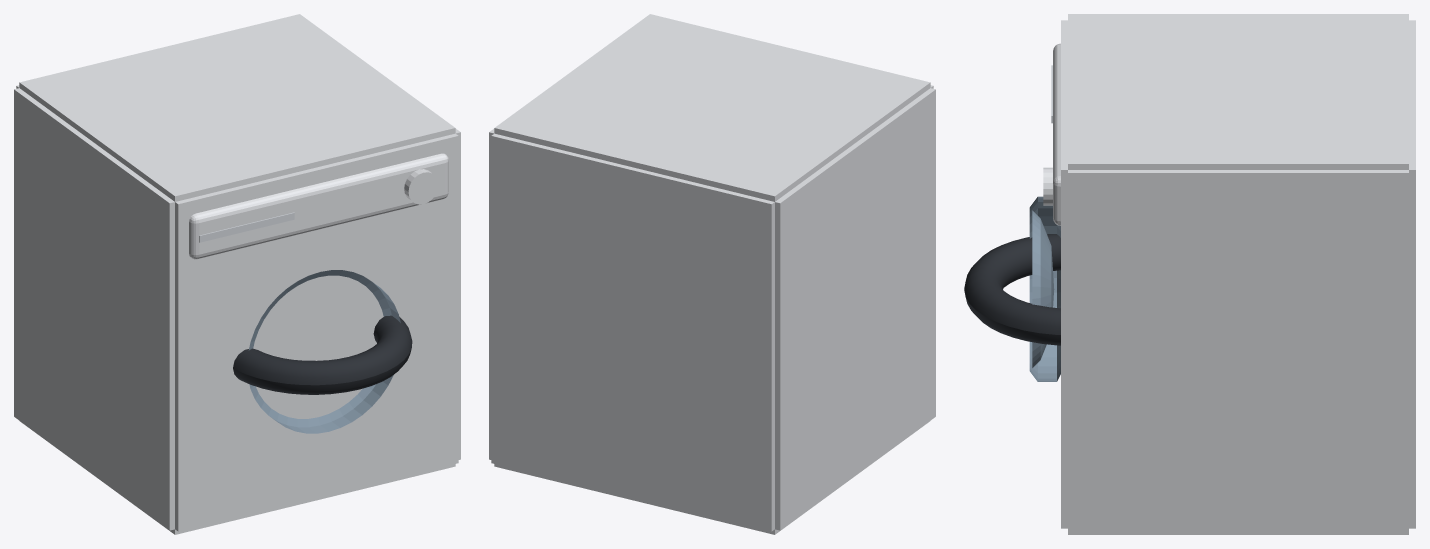
The model's file is washing_machine.glb.
3 views of the same model, side by side, from view 1: azimuth 30°, elevation 25°; view 2: azimuth 150°, elevation 25°; view 3: azimuth 270°, elevation 25° (orthographic). The views are drawn at different scales.
Visible parts, largest first — view 1: cabinet, front_panel, door_seal, door, detergent_drawer; view 2: cabinet; view 3: cabinet, door_seal, front_panel, door.
Boxes of the visible parts, x1=… form: cabinet: x1=14, y1=14, x2=460, y2=534; front_panel: x1=175, y1=133, x2=458, y2=531; door_seal: x1=233, y1=315, x2=412, y2=394; door: x1=248, y1=270, x2=400, y2=433; detergent_drawer: x1=199, y1=212, x2=294, y2=242; cabinet: x1=489, y1=14, x2=935, y2=534; cabinet: x1=1068, y1=14, x2=1415, y2=534; door_seal: x1=964, y1=234, x2=1060, y2=345; front_panel: x1=1043, y1=20, x2=1067, y2=528; door: x1=1029, y1=196, x2=1060, y2=381.
Size of the model in its own units: 1.35 by 1.62 by 1.65.
